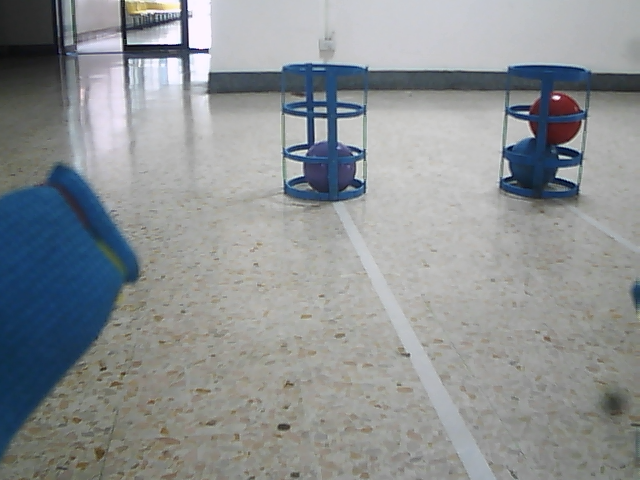Blue ball: (510, 137, 561, 188)
Cyro: (498, 62, 595, 201), (279, 60, 370, 203)
Purple ball: (303, 140, 357, 193)
Red ball: (529, 91, 583, 145)
